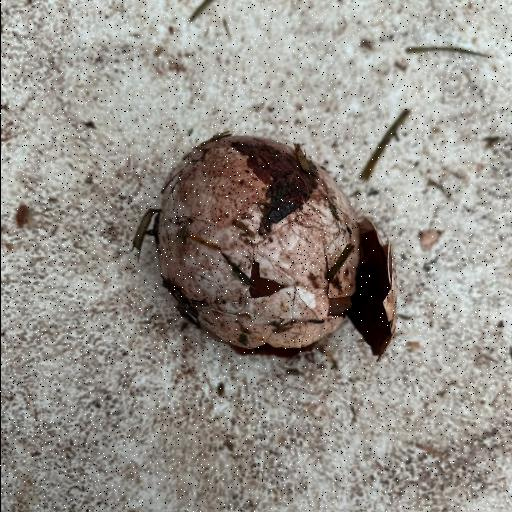Waste: (134, 128, 398, 362)
